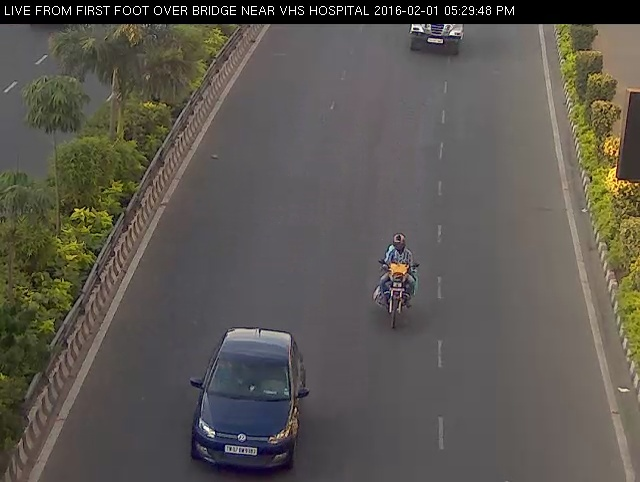Car: (185, 307, 315, 479), (396, 17, 472, 58)
Person: (370, 220, 423, 345)
